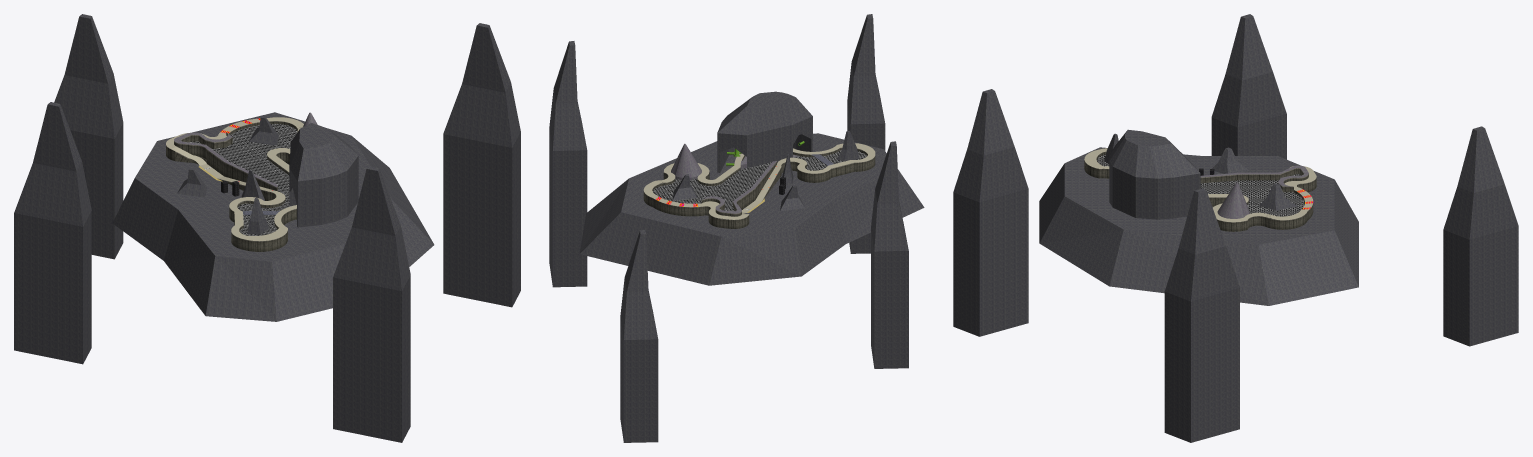
3 renders of one model, left to right at view 1: azimuth 30°, elevation 25°; view 2: azimuth 150°, elevation 25°; view 3: azimuth 270°, elevation 25°, orthographic. The views are drawn at different scales.
Visible parts, largest first — view 1: course_save-SKP--out.001, course_save-SKP--falaise.001, course_save-SKP--eau.001, course_save-SKP--road.001, course_save-SKP--rock.001; view 2: course_save-SKP--out.001, course_save-SKP--falaise.001, course_save-SKP--road.001, course_save-SKP--eau.001, course_save-SKP--rock.001; view 3: course_save-SKP--out.001, course_save-SKP--falaise.001, course_save-SKP--eau.001, course_save-SKP--road.001, course_save-SKP--rock.001.
Boxes of the visible parts, x1,y1,x2,y2 form: course_save-SKP--out.001: [14, 14, 520, 442]; course_save-SKP--falaise.001: [166, 121, 297, 251]; course_save-SKP--eau.001: [189, 124, 297, 235]; course_save-SKP--road.001: [166, 117, 303, 241]; course_save-SKP--rock.001: [174, 112, 317, 206]; course_save-SKP--out.001: [549, 14, 924, 442]; course_save-SKP--falaise.001: [643, 147, 875, 228]; course_save-SKP--road.001: [643, 143, 875, 219]; course_save-SKP--eau.001: [652, 150, 866, 211]; course_save-SKP--rock.001: [671, 143, 798, 213]; course_save-SKP--out.001: [953, 14, 1518, 442]; course_save-SKP--falaise.001: [1084, 151, 1316, 231]; course_save-SKP--eau.001: [1096, 154, 1304, 216]; course_save-SKP--road.001: [1084, 148, 1316, 222]; course_save-SKP--rock.001: [1200, 165, 1308, 218].
Size of the model in its own units: 216108 by 123707 by 257490.
Materials: 14 (14 with a texture image).
